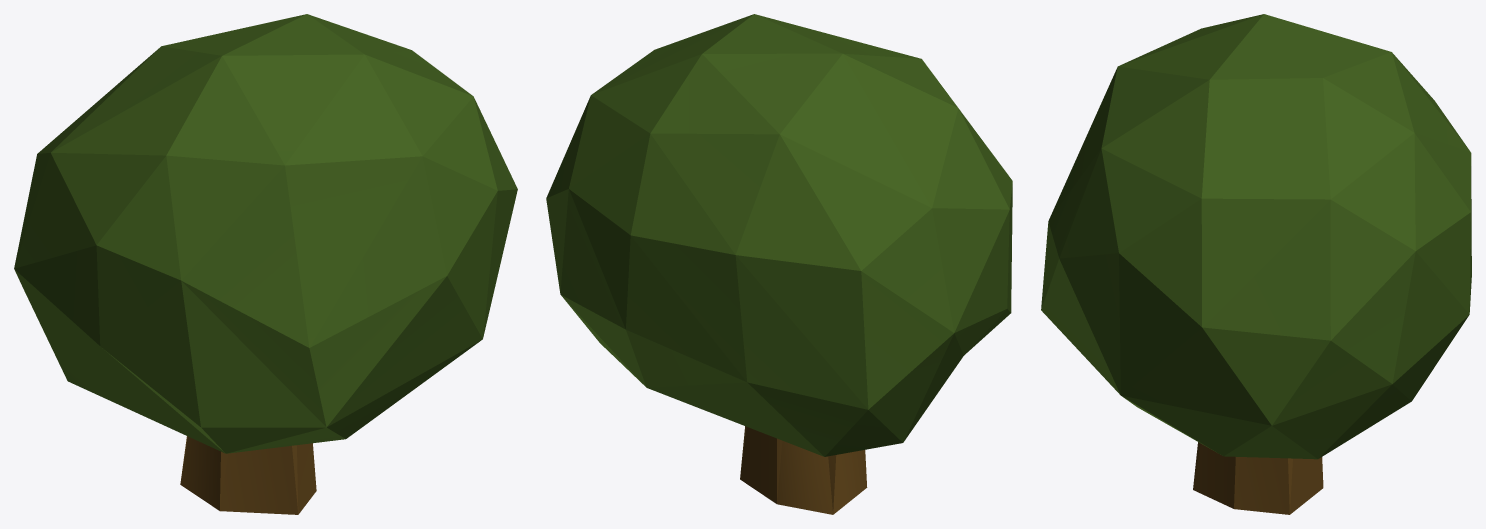
The model's file is Flower6.glb.
The picture shows the model from 3 angles, left to right: view 1: azimuth 30°, elevation 25°; view 2: azimuth 150°, elevation 25°; view 3: azimuth 270°, elevation 25°; orthographic projection. The views are drawn at different scales.
Visible parts, largest first — view 1: Stem; view 2: Stem; view 3: Stem.
Part boxes in pixels (<box>): Stem: <box>14,14,517,514</box>; Stem: <box>546,14,1012,514</box>; Stem: <box>1041,14,1471,514</box>.
Bounding box in the file's own units: 0.5545 × 0.5448 × 0.4674.
